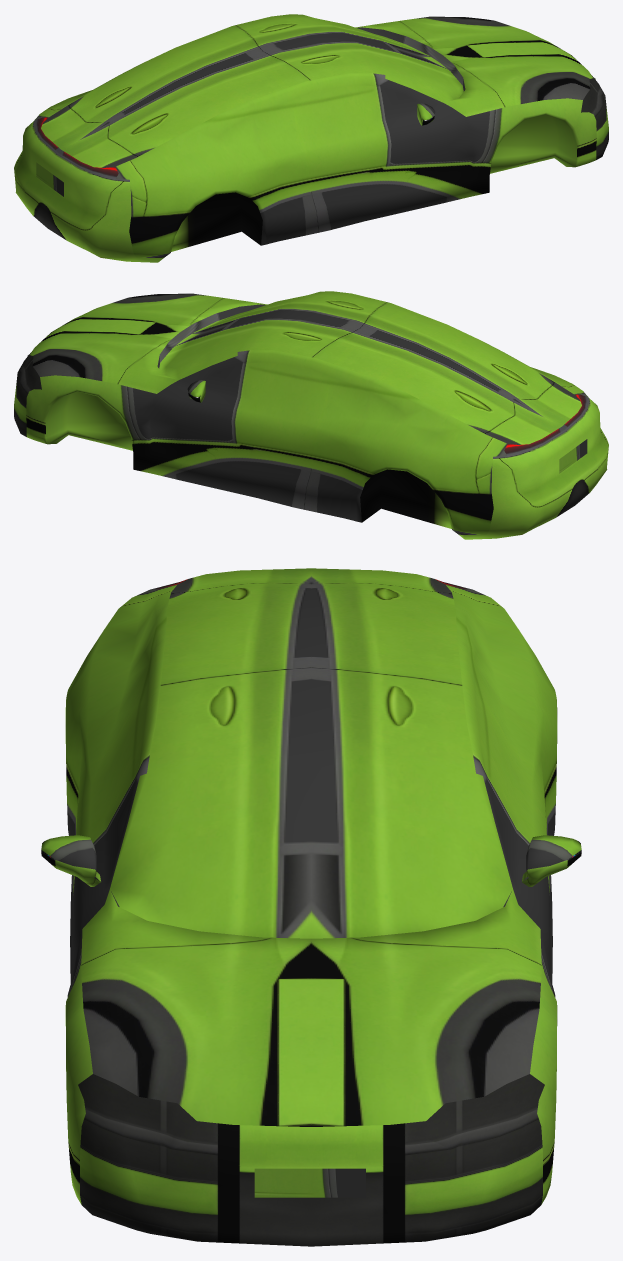
The model's file is car 13.fbx.
3 renders of one model, top to bottom at view 1: azimuth 30°, elevation 25°; view 2: azimuth 150°, elevation 25°; view 3: azimuth 270°, elevation 25°, orthographic. The views are drawn at different scales.
Parts seen in each view (by area): view 1: car_13; view 2: car_13; view 3: car_13.
Boxes of the visible parts, box(x1,y1,x2,y2) form: car_13: box(14, 14, 608, 262); car_13: box(14, 291, 608, 539); car_13: box(41, 568, 581, 1246).
Bounding box in the file's own units: 1742 × 438 × 757.
